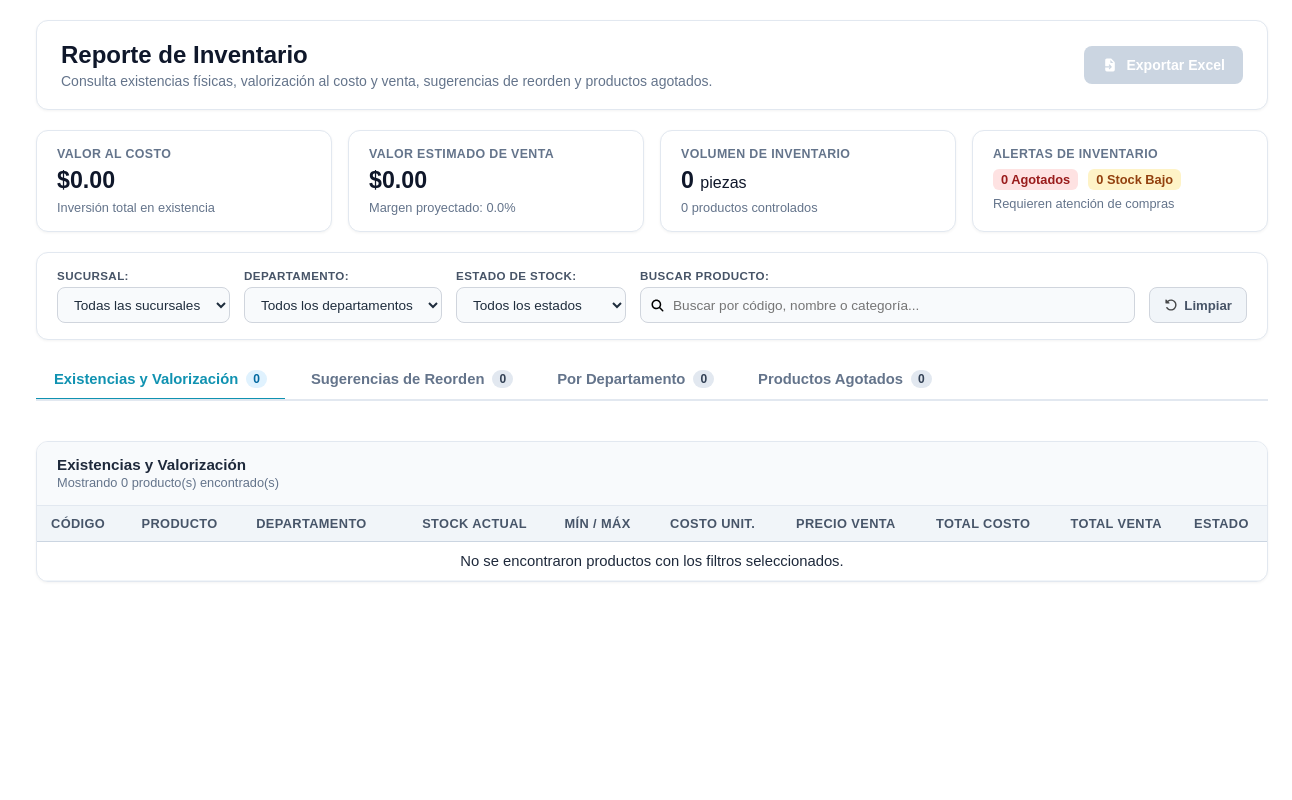
Test: PageInventoryReport selector de sucursal › filtra por la sucursal elegida y la refleja en la url sin acoplar el contexto
Select "Torres" in the dropdown below "Sucursal:": [144, 305] box [57,287,230,323]
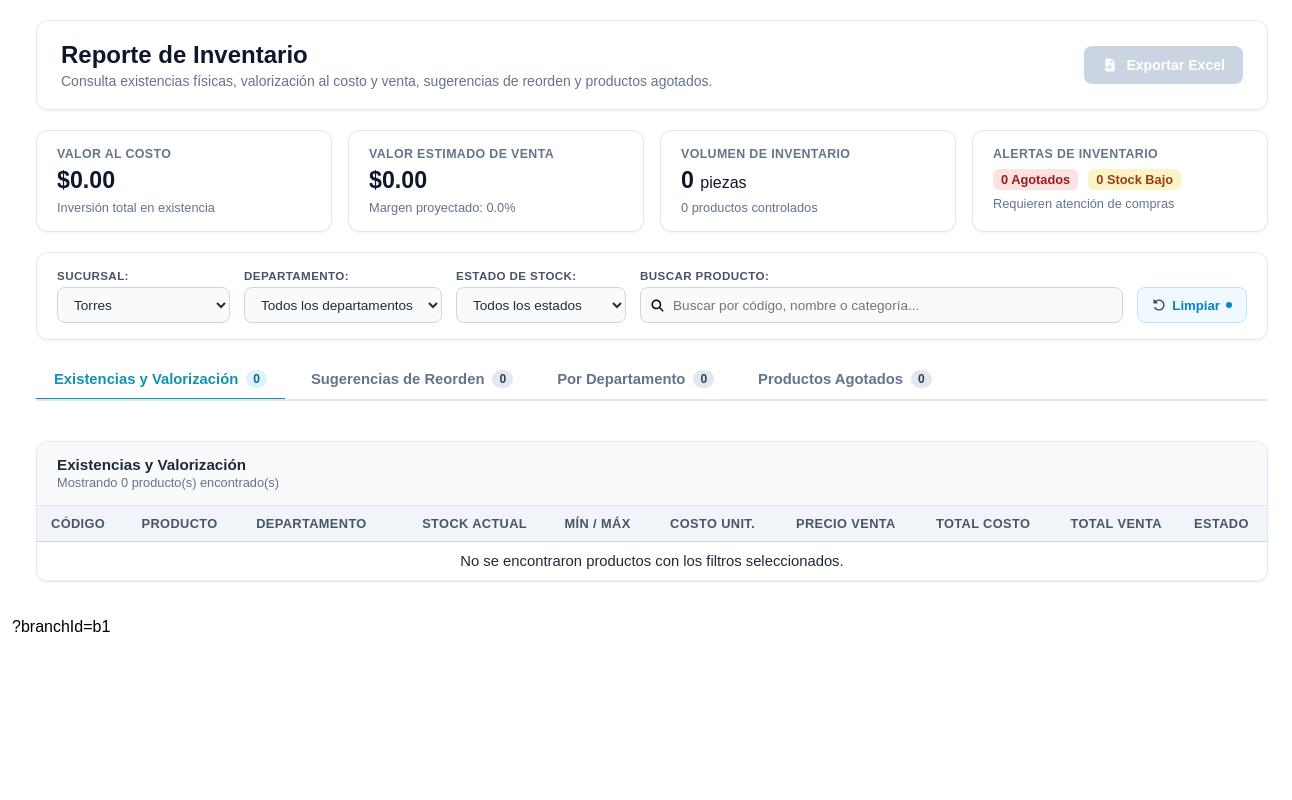
Expected: the text with test id "location-search" reads "?branchId=b1", [12,618,110,635]
